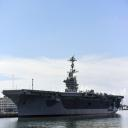Portanaves: (2, 55, 126, 120)
